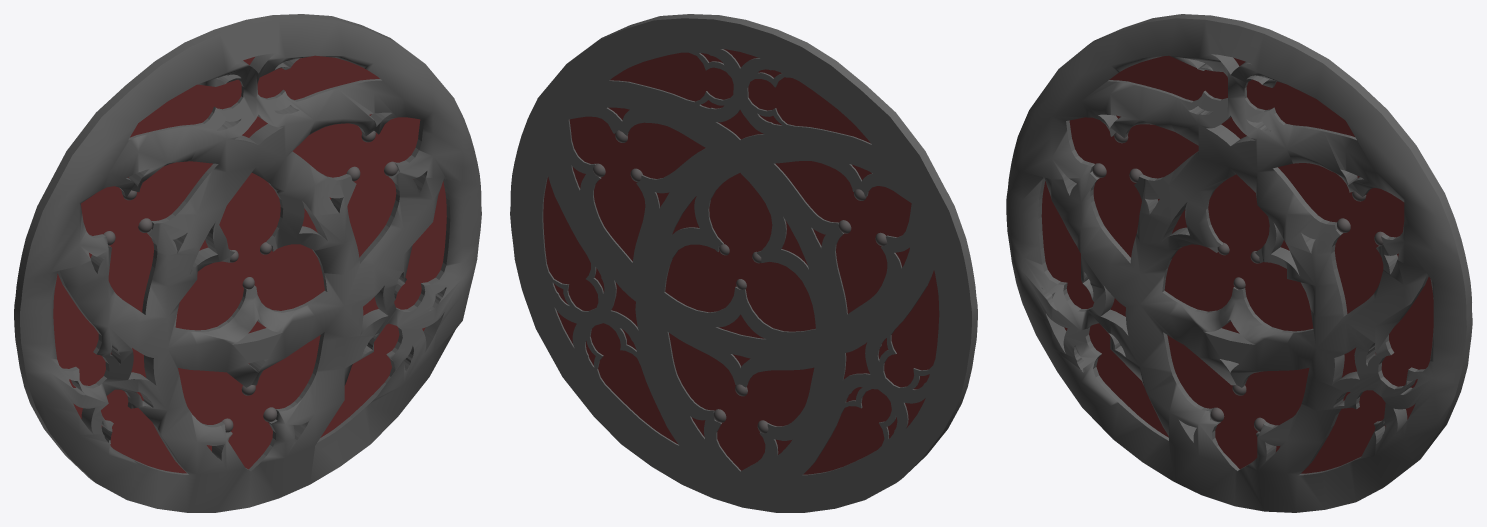
The model's file is Window.fbx.
3 renders of one model, left to right at view 1: azimuth 30°, elevation 25°; view 2: azimuth 150°, elevation 25°; view 3: azimuth 330°, elevation 25°, orthographic.
Visible parts, largest first — view 1: glass1; view 2: glass1; view 3: glass1.
Part boxes in pixels (left/top/right/bottom): glass1: left=14, top=14, right=481, bottom=512; glass1: left=510, top=14, right=977, bottom=512; glass1: left=1006, top=14, right=1472, bottom=512.
Bounding box in the file's own units: 0.489 × 0.4883 × 0.0262.
